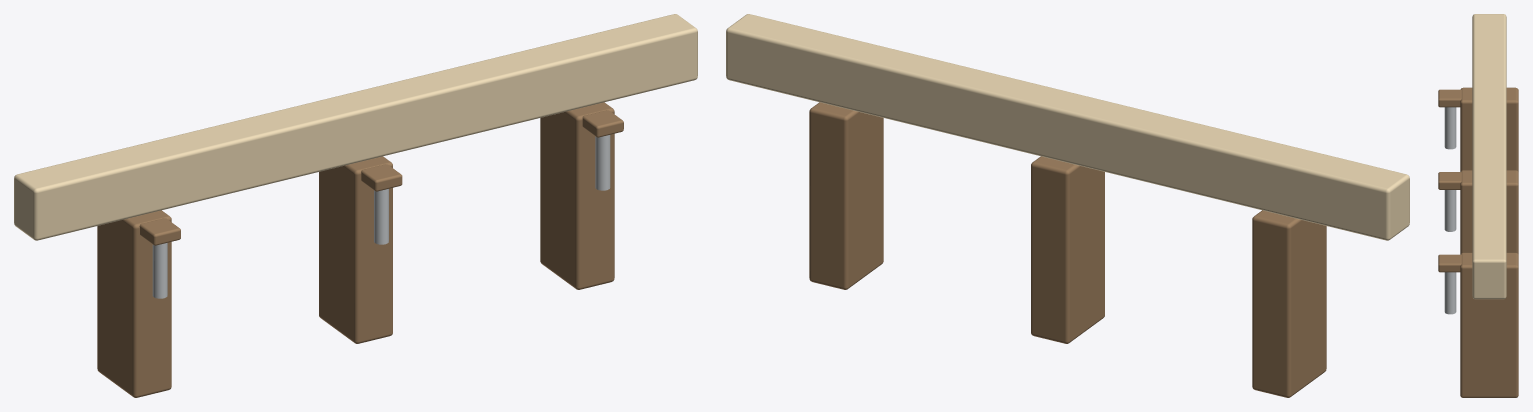
Rendered from marquetry-and-veneer-inlay-workshop-veneer-edge-jointi-3dbbc985__39097.glb.
3 renders of one model, left to right at view 1: azimuth 30°, elevation 25°; view 2: azimuth 150°, elevation 25°; view 3: azimuth 270°, elevation 25°, orthographic. The views are drawn at different scales.
Parts seen in each view (by area): view 1: veneer-edge-jointing-fence; view 2: veneer-edge-jointing-fence; view 3: veneer-edge-jointing-fence.
Boxes of the visible parts, box(x1,y1,x2,y2) form: veneer-edge-jointing-fence: box(14, 14, 697, 397); veneer-edge-jointing-fence: box(726, 14, 1409, 397); veneer-edge-jointing-fence: box(1438, 14, 1518, 397).
Bounding box in the file's own units: 1.2 × 0.3899 × 0.1649.
